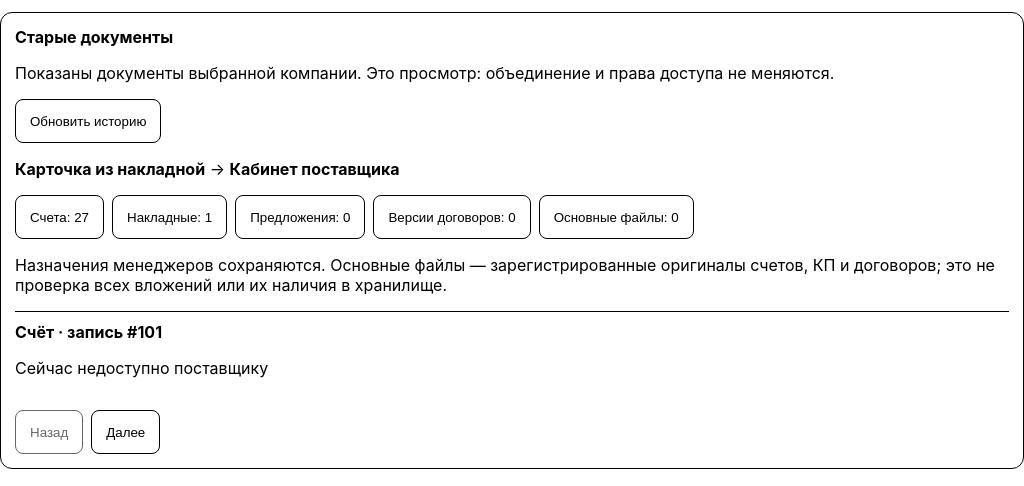
Test: failed history is not an empty success; switching document kind resets pagination
Click the button "Далее".
click(126, 432)  # box [91,410,160,454]
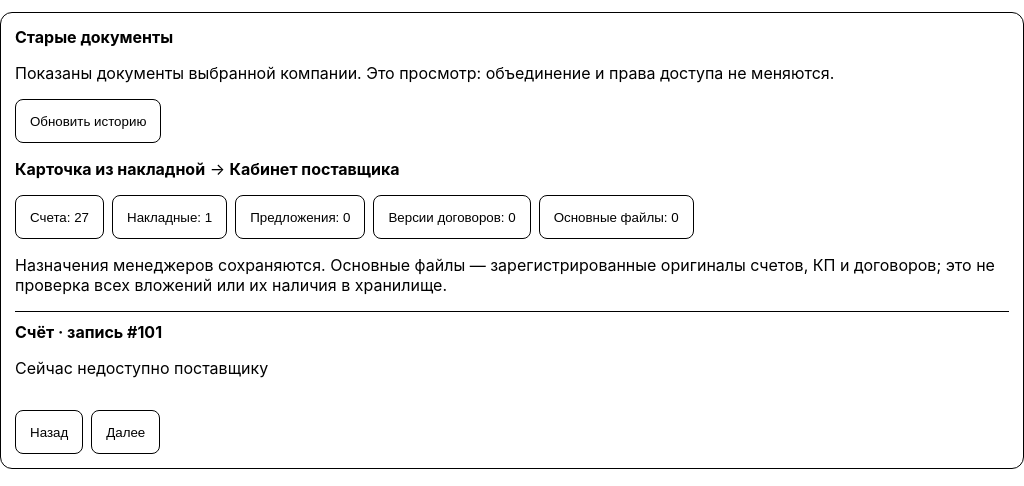
Expected: the text "Сейчас недоступно поставщику" is shown, [15,358,268,378]
Click the button "Накладные: 1".
click(170, 217)  # box [112,195,227,239]
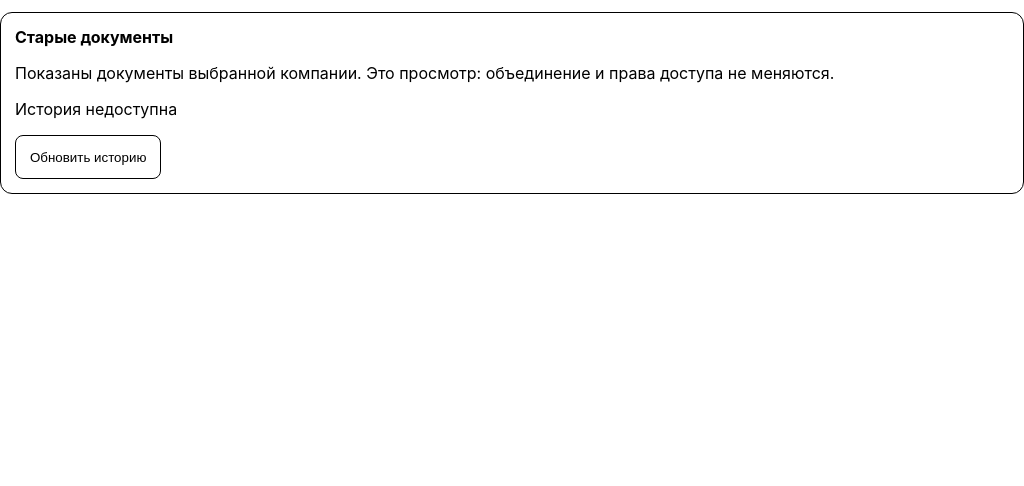
Expected: the message reads "История недоступна", [15,99,177,119]
